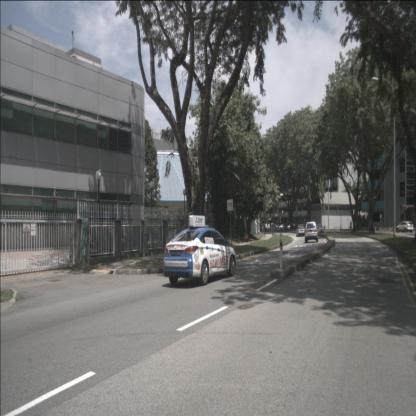human-pedestrian-adult: (268, 222, 271, 234), (261, 224, 264, 234), (349, 221, 352, 231), (265, 221, 267, 234)
movable_object-trafficcone: (374, 226, 377, 232)
vehicle-car: (163, 226, 236, 285), (304, 221, 318, 243), (396, 221, 414, 232), (296, 224, 306, 236), (312, 223, 324, 233)
